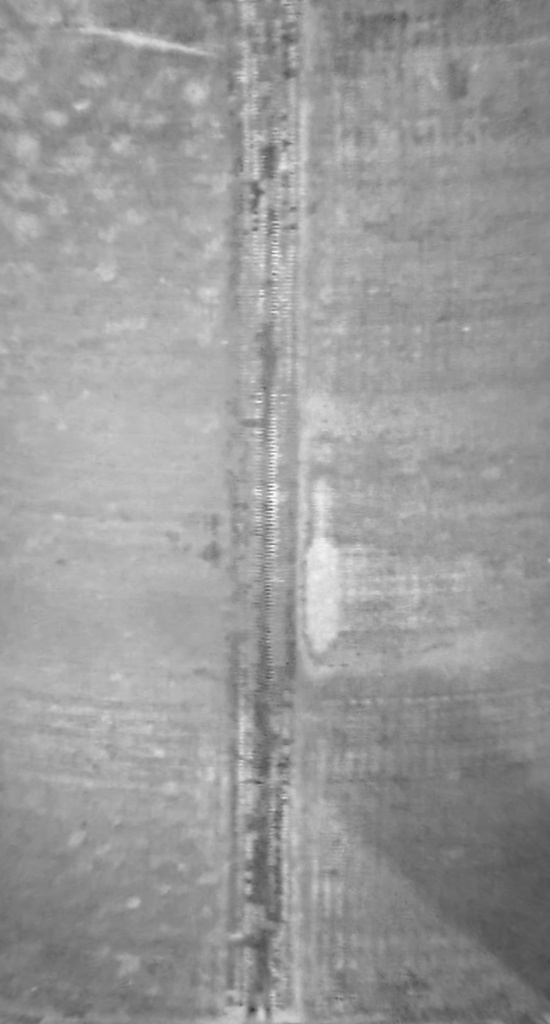splice: (205, 1, 308, 1022)
